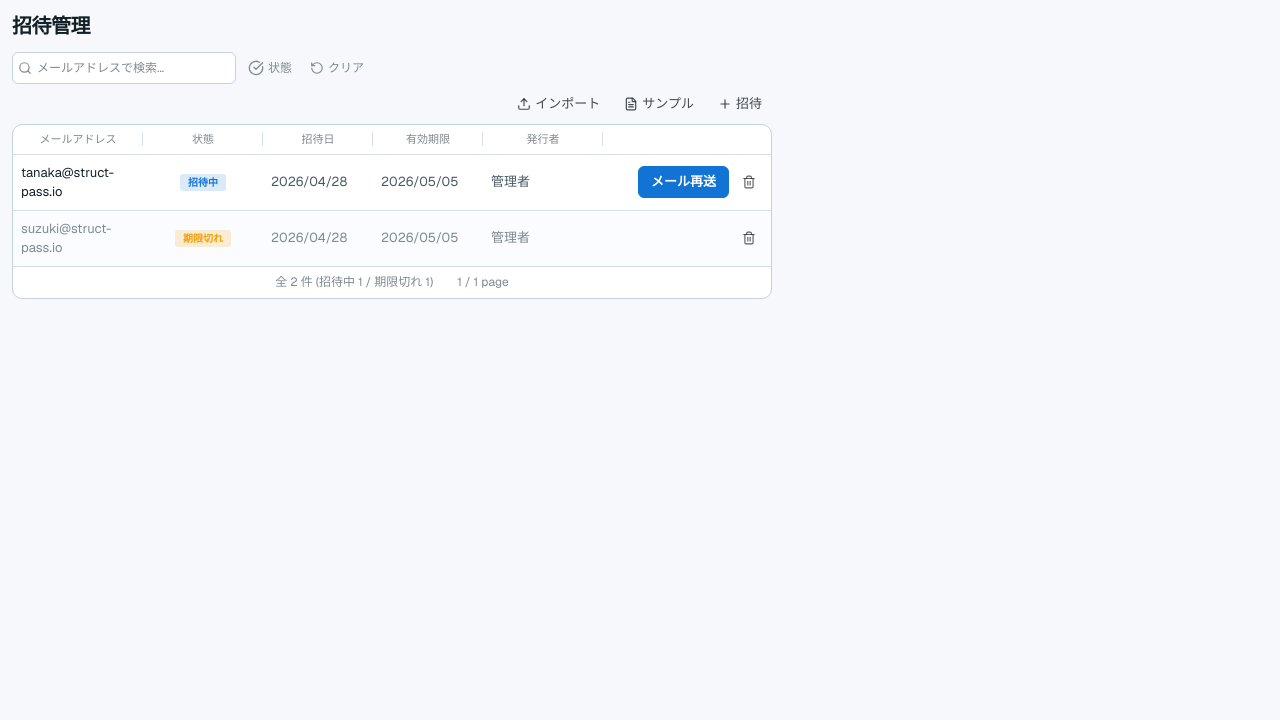
Scenario: InvitesScreen › 初期 Space 未選択では発行ボタンが無効
Click the button with aria-label "招待メールを発行" at [740, 104], box [708, 88, 772, 120]
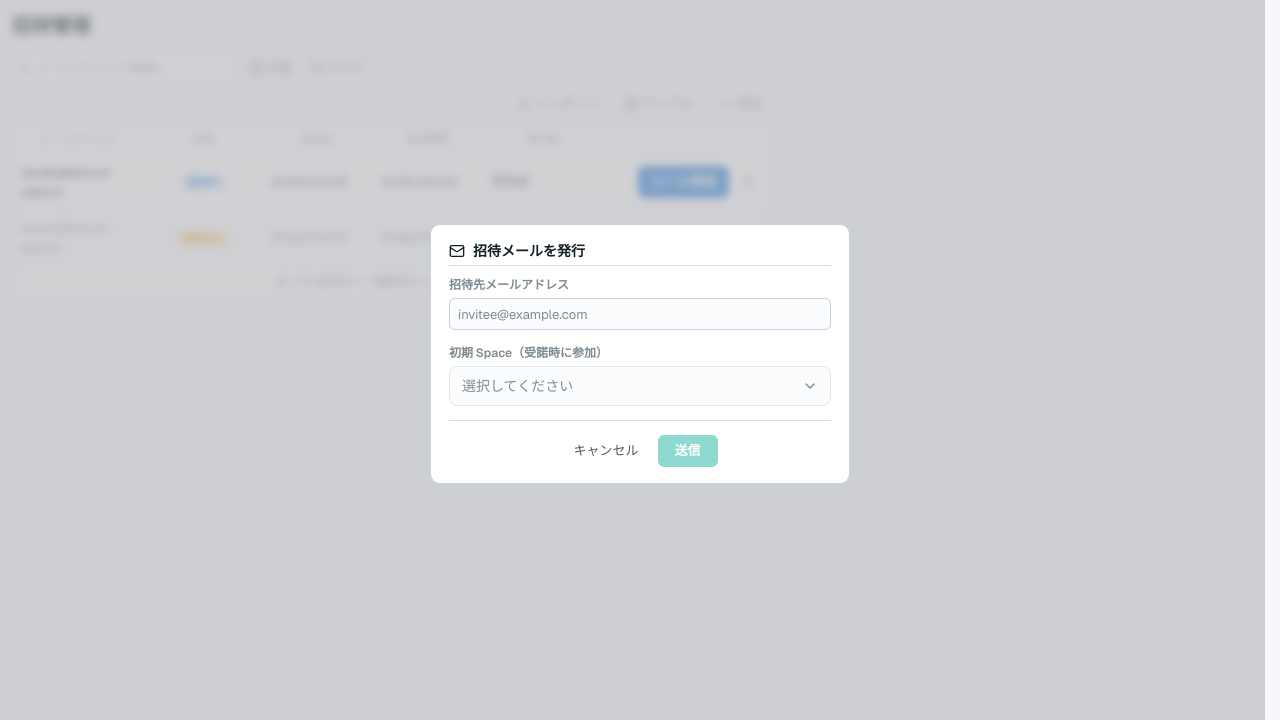
Type "x@example.com" into the field labelled "招待先メールアドレス" at [640, 314], box [449, 298, 831, 330]
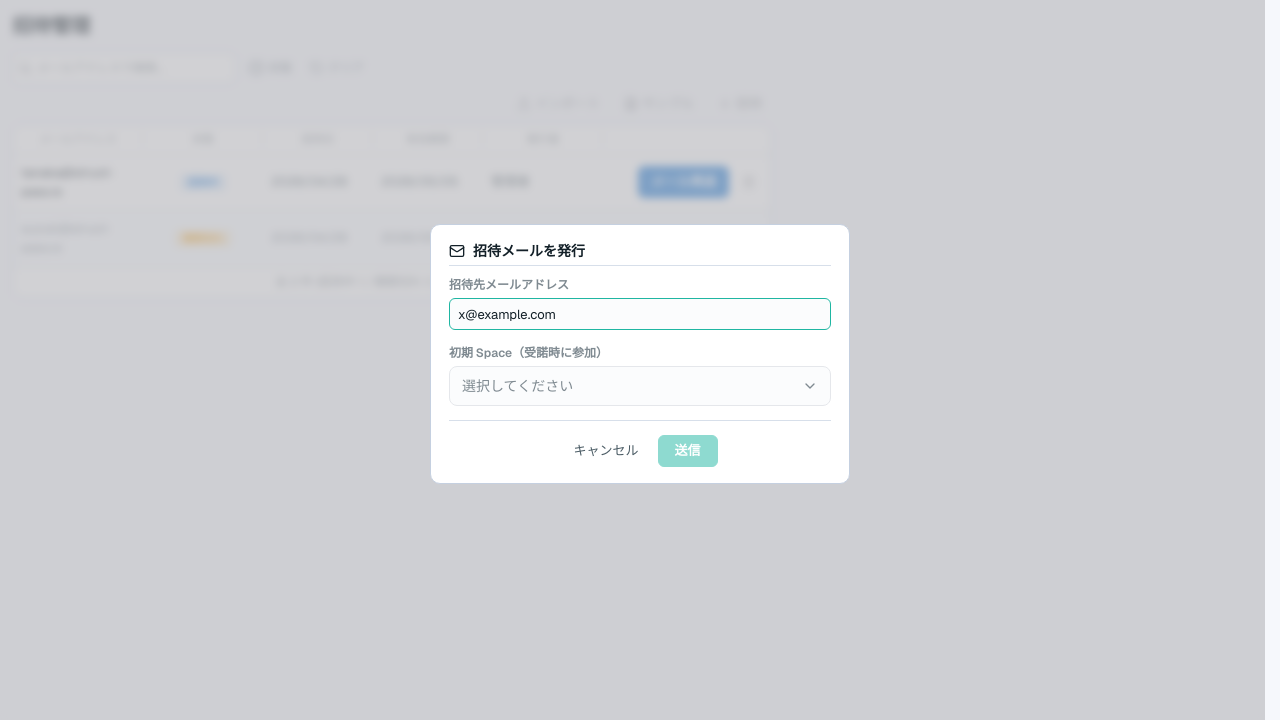
Expected: the button "送信" is disabled, [658, 435, 718, 467]
Click the button named "初期 Space（受諾時に参加）" at [518, 386], box [449, 366, 831, 406]
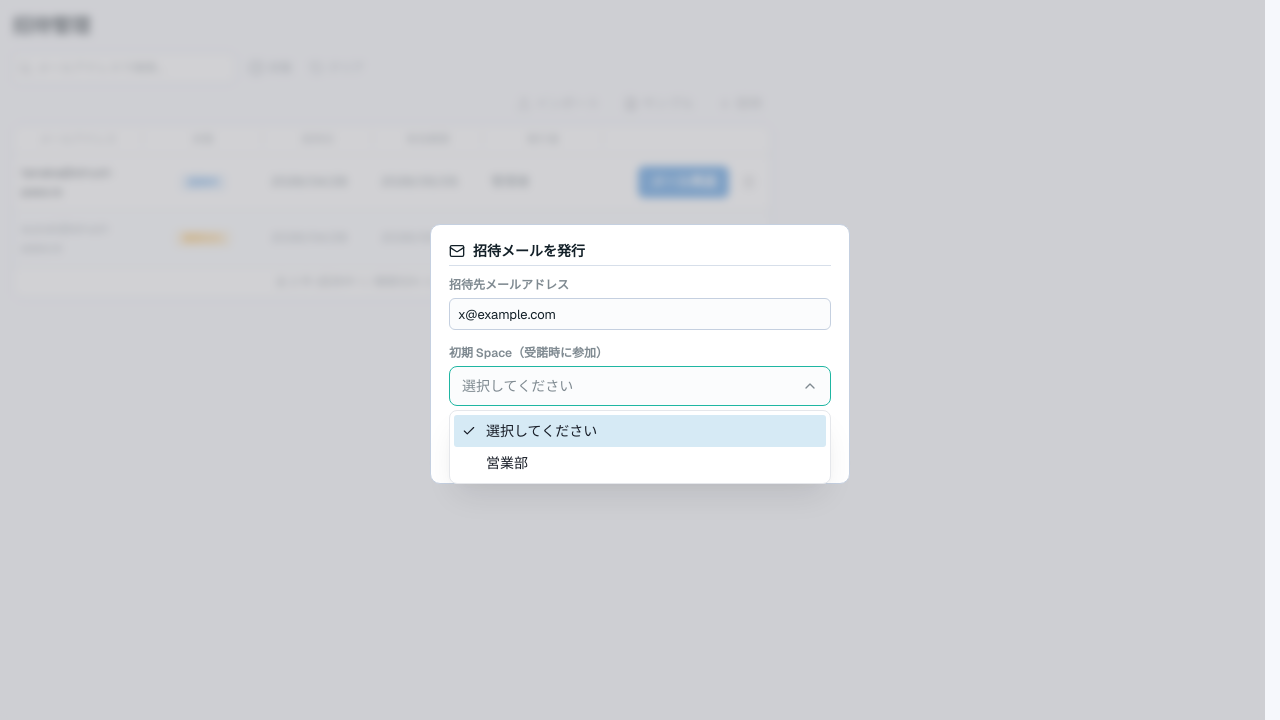
Click the option "営業部" at [507, 463], box [486, 454, 528, 472]
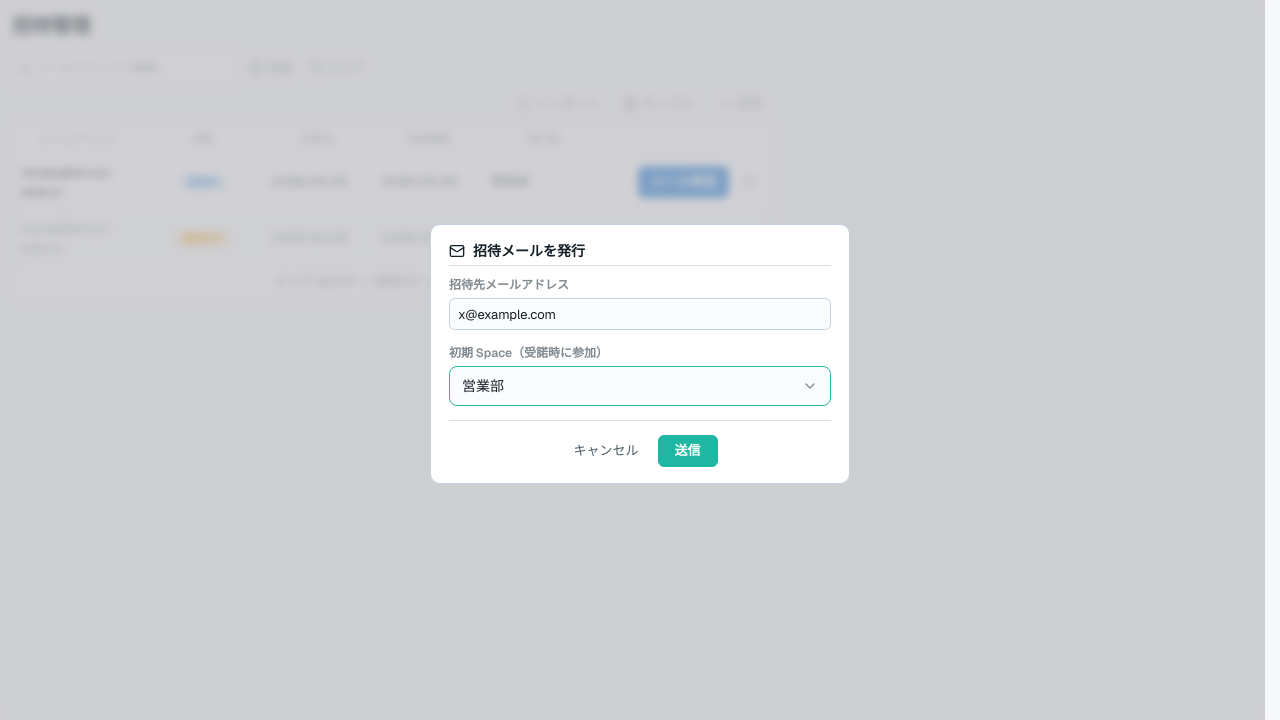
Expected: the button "送信" is enabled, [658, 435, 718, 467]
